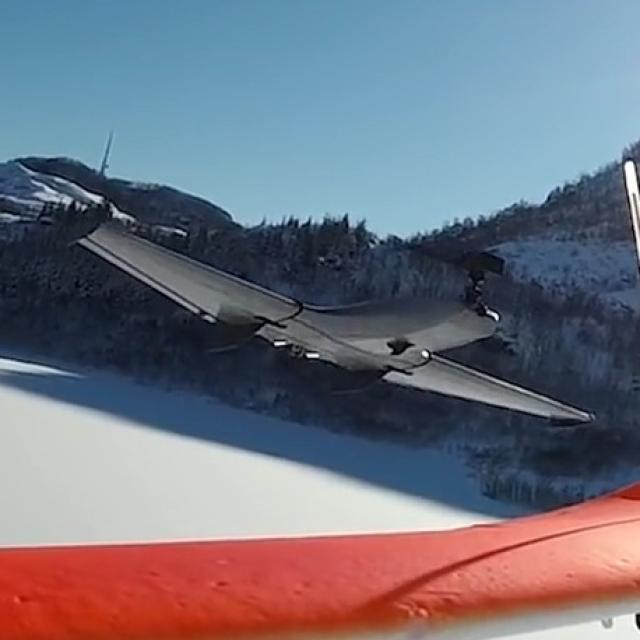iha: (42, 203, 598, 437)
